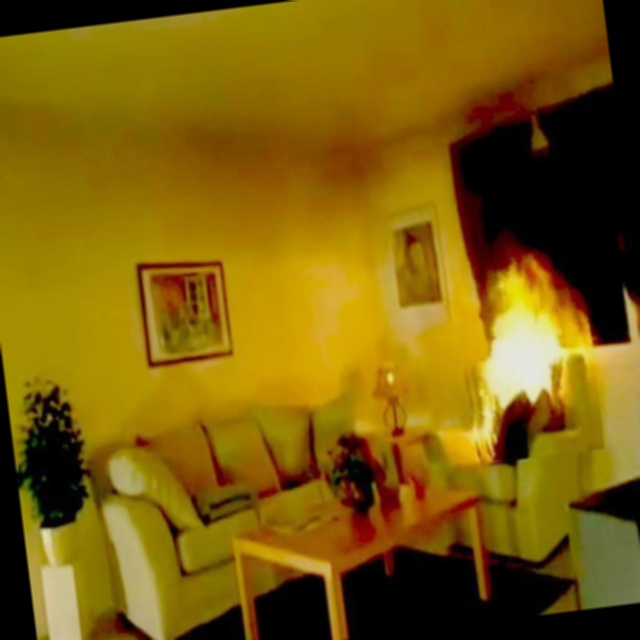fire: (435, 241, 609, 492)
